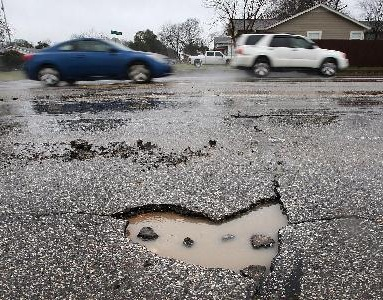pothole: (114, 194, 292, 275), (33, 96, 158, 115), (341, 87, 383, 96)
